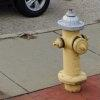a fire hydrant: (55, 7, 87, 88)
